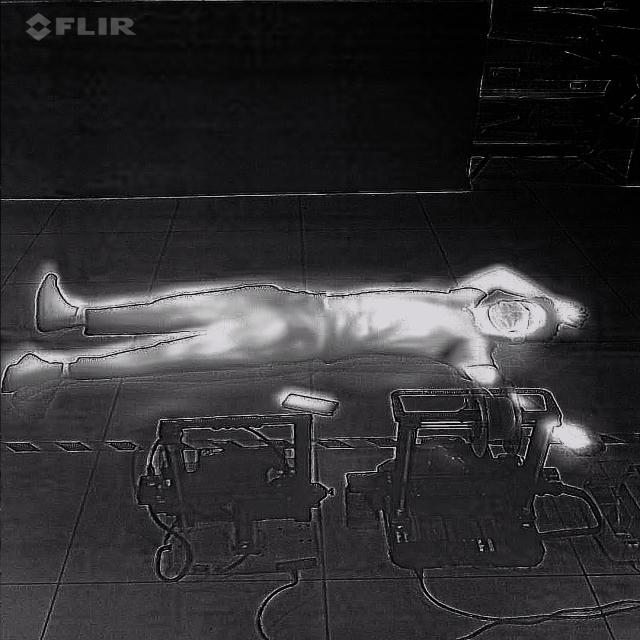Victim: (2, 258, 604, 455)
